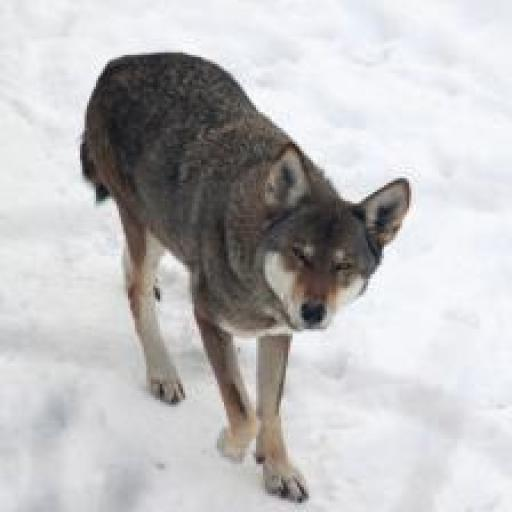wolf: (82, 48, 414, 499)
